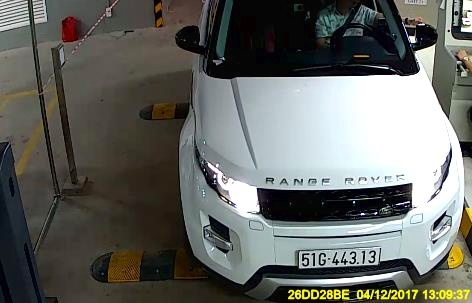plate: (298, 248, 381, 266)
